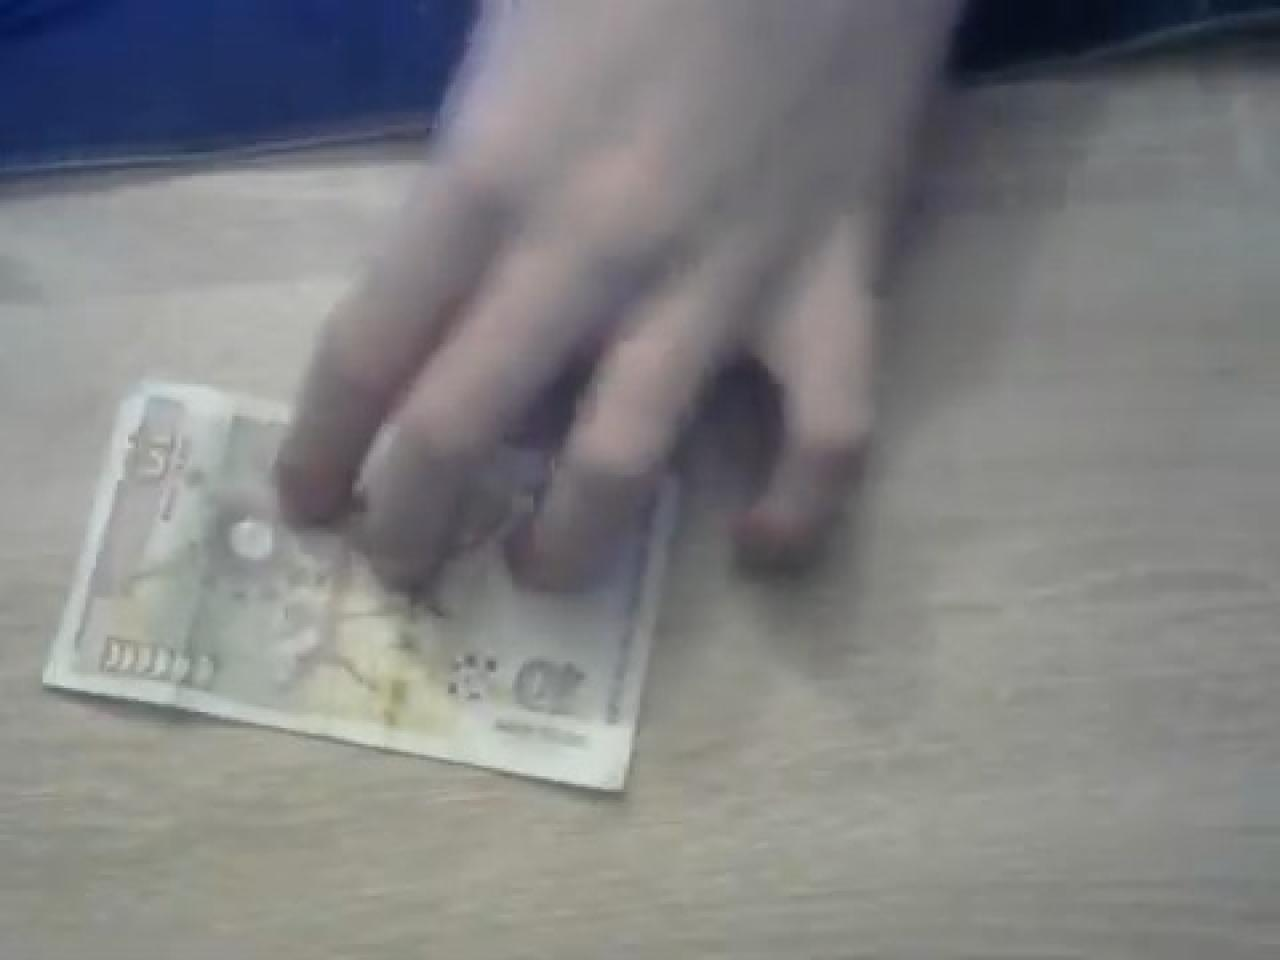10leva: (37, 381, 688, 798)
